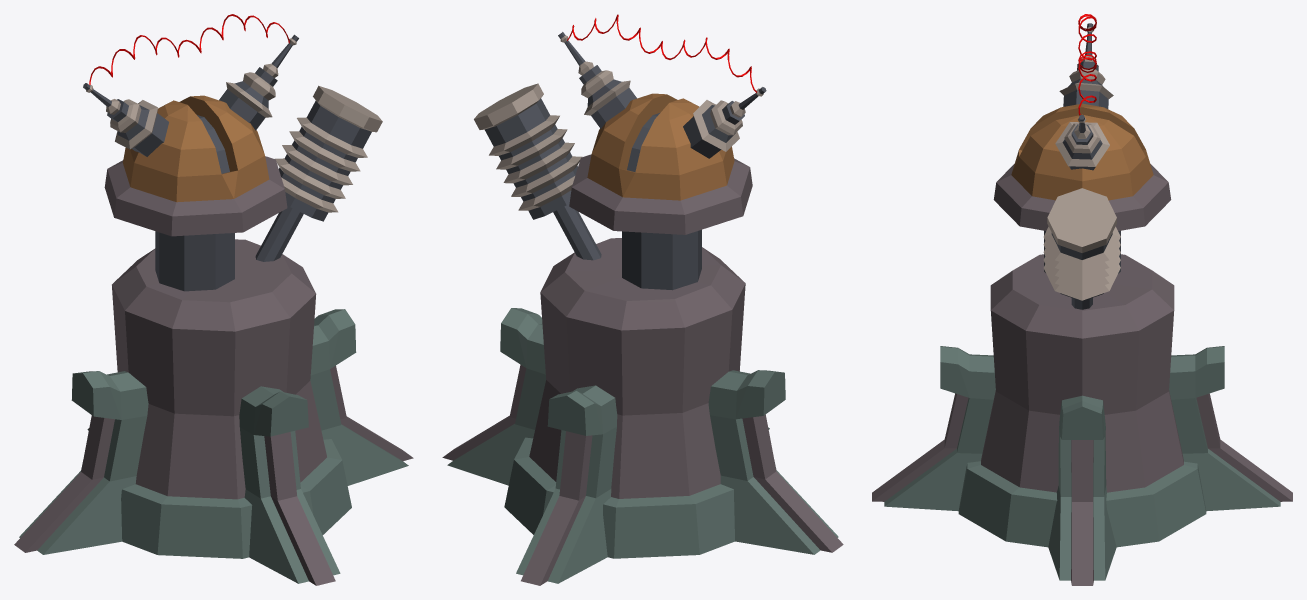
Rendered from TeslaCoilTower.fbx.
The picture shows the model from 3 angles, left to right: view 1: azimuth 30°, elevation 25°; view 2: azimuth 150°, elevation 25°; view 3: azimuth 270°, elevation 25°; orthographic projection. The views are drawn at different scales.
Visible parts, largest first — view 1: Defense_set_1_022_rock_blue_0.001, Defense_set_1_022_rock_0.001, Defense_set_1_022_metal_0.001, Defense_set_1_022_wood_0.001, Defense_set_1_022_wall_0.001, Defense_set_1_022_fire_0.001; view 2: Defense_set_1_022_rock_blue_0.001, Defense_set_1_022_rock_0.001, Defense_set_1_022_metal_0.001, Defense_set_1_022_wood_0.001, Defense_set_1_022_wall_0.001, Defense_set_1_022_fire_0.001; view 3: Defense_set_1_022_rock_blue_0.001, Defense_set_1_022_rock_0.001, Defense_set_1_022_wall_0.001, Defense_set_1_022_wood_0.001, Defense_set_1_022_metal_0.001, Defense_set_1_022_fire_0.001.
Part boxes in pixels (x1=…): Defense_set_1_022_rock_blue_0.001: x1=14, y1=156, x2=413, y2=585; Defense_set_1_022_rock_0.001: x1=19, y1=309, x2=408, y2=583; Defense_set_1_022_metal_0.001: x1=83, y1=34, x2=371, y2=291; Defense_set_1_022_wood_0.001: x1=123, y1=95, x2=269, y2=202; Defense_set_1_022_wall_0.001: x1=86, y1=38, x2=382, y2=212; Defense_set_1_022_fire_0.001: x1=89, y1=14, x2=289, y2=84; Defense_set_1_022_rock_blue_0.001: x1=442, y1=154, x2=843, y2=585; Defense_set_1_022_rock_0.001: x1=447, y1=308, x2=838, y2=583; Defense_set_1_022_metal_0.001: x1=485, y1=32, x2=766, y2=290; Defense_set_1_022_wood_0.001: x1=587, y1=93, x2=734, y2=200; Defense_set_1_022_wall_0.001: x1=474, y1=35, x2=763, y2=210; Defense_set_1_022_fire_0.001: x1=567, y1=14, x2=756, y2=92; Defense_set_1_022_rock_blue_0.001: x1=872, y1=164, x2=1292, y2=585; Defense_set_1_022_rock_0.001: x1=884, y1=346, x2=1280, y2=580; Defense_set_1_022_wall_0.001: x1=1043, y1=27, x2=1120, y2=300; Defense_set_1_022_wood_0.001: x1=1011, y1=103, x2=1153, y2=200; Defense_set_1_022_metal_0.001: x1=1044, y1=23, x2=1120, y2=309; Defense_set_1_022_fire_0.001: x1=1078, y1=14, x2=1096, y2=115.
Size of the model in its own units: 696 by 821 by 696.
